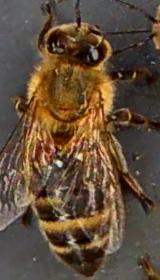varroa_mite: (34, 135, 58, 166)
